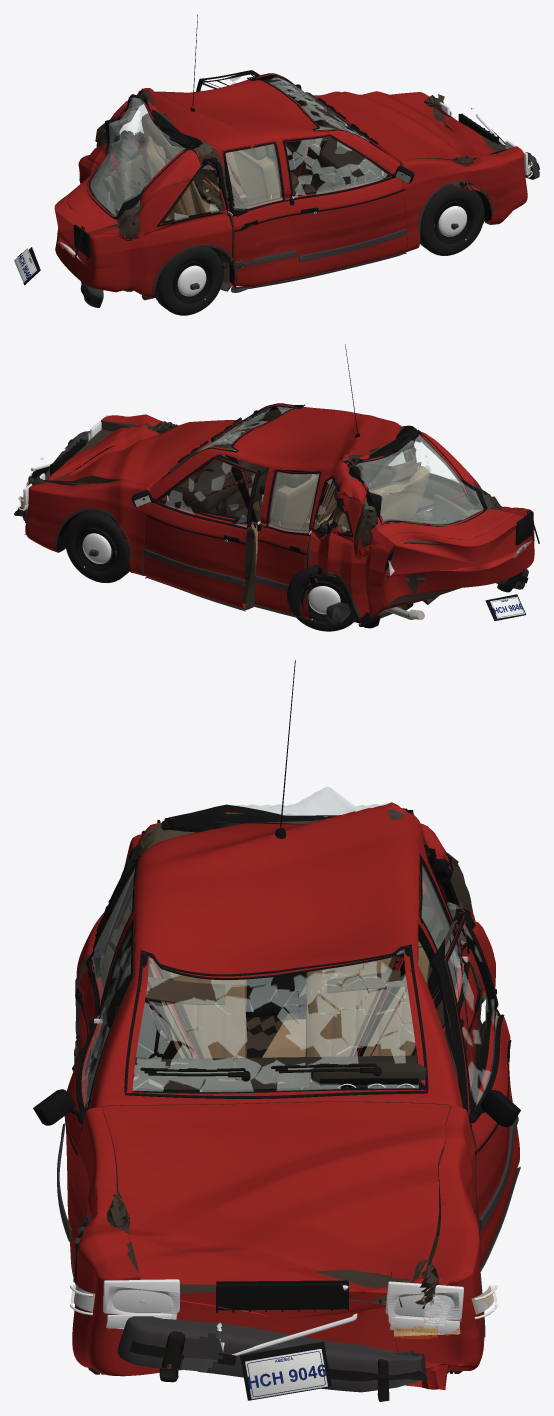
Rendered from hatchback85_rear_corner_d2.glb.
3 renders of one model, top to bottom at view 1: azimuth 30°, elevation 25°; view 2: azimuth 150°, elevation 25°; view 3: azimuth 270°, elevation 25°, orthographic. The views are drawn at different scales.
Parts seen in each view (by area): view 1: Body, Interior, Door_FR, Hood, Glass_Hatch, Hatch, Door_RR, Wheel_FR_mesh, Wheel_RR_mesh, Glass_RR, Glass_FR, Trim_FR (+6 smaller); view 2: Body, Hatch, Interior, Door_FL, Glass_Hatch, Hood, Door_RL, Wheel_FL_mesh, Wheel_RL_mesh, Glass_RL, Ends, Trim_FL (+7 smaller); view 3: Body, Hood, Glass, Interior, Ends, Bumper_F, Door_FL, Trim_FL, Door_FR, Trim, Trim_FR, Door_RR (+9 smaller).
Part boxes in pixels (bbox=[...]): Body: bbox=[55, 74, 527, 297]; Interior: bbox=[105, 81, 381, 221]; Door_FR: bbox=[282, 134, 407, 277]; Hood: bbox=[315, 91, 495, 162]; Glass_Hatch: bbox=[87, 88, 191, 219]; Hatch: bbox=[54, 88, 201, 264]; Door_RR: bbox=[223, 141, 298, 288]; Wheel_FR_mesh: bbox=[420, 185, 484, 255]; Wheel_RR_mesh: bbox=[154, 247, 223, 315]; Glass_RR: bbox=[223, 144, 284, 216]; Glass_FR: bbox=[282, 135, 390, 198]; Trim_FR: bbox=[283, 134, 414, 280]; Body: bbox=[24, 404, 534, 628]; Hatch: bbox=[337, 428, 526, 577]; Interior: bbox=[167, 411, 467, 581]; Door_FL: bbox=[143, 455, 260, 609]; Glass_Hatch: bbox=[342, 429, 487, 526]; Hood: bbox=[43, 421, 238, 486]; Door_RL: bbox=[254, 469, 321, 618]; Wheel_FL_mesh: bbox=[65, 510, 129, 583]; Wheel_RL_mesh: bbox=[287, 565, 356, 631]; Glass_RL: bbox=[266, 472, 320, 533]; Ends: bbox=[18, 415, 539, 620]; Trim_FL: bbox=[131, 456, 257, 611]; Body: bbox=[72, 802, 495, 1389]; Hood: bbox=[101, 1102, 451, 1300]; Glass: bbox=[95, 846, 475, 1098]; Interior: bbox=[133, 941, 430, 1089]; Ends: bbox=[69, 820, 497, 1400]; Bumper_F: bbox=[117, 1316, 427, 1401]; Door_FL: bbox=[432, 915, 519, 1266]; Trim_FL: bbox=[445, 916, 520, 1271]; Door_FR: bbox=[66, 918, 134, 1268]; Trim: bbox=[74, 660, 496, 1337]; Trim_FR: bbox=[33, 920, 133, 1282]; Door_RR: bbox=[77, 859, 138, 1055].
Size of the model in its own units: 4.4 by 2.2 by 1.92.
Materials: 33 (5 with a texture image).
